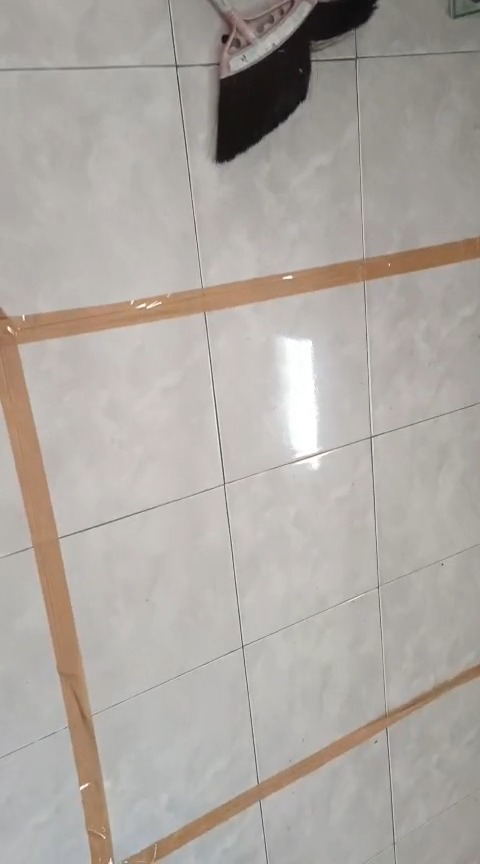floor marking: (0, 237, 479, 863), (123, 665, 479, 863)
